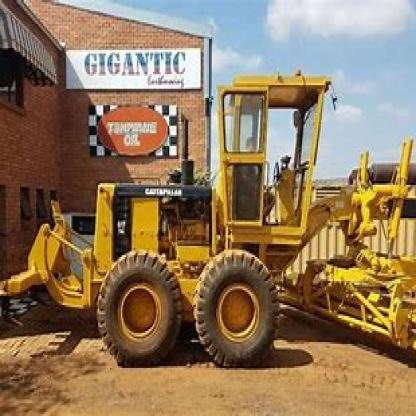bull_dozer/loader/grader: (26, 61, 414, 377)
